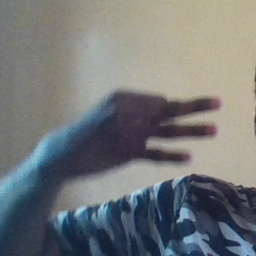K: (55, 87, 222, 173)
